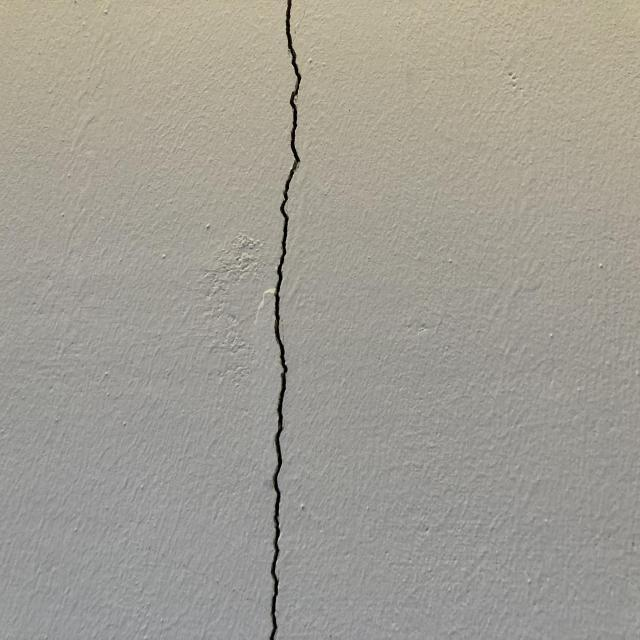SurfaceCrack: (215, 1, 345, 640)
